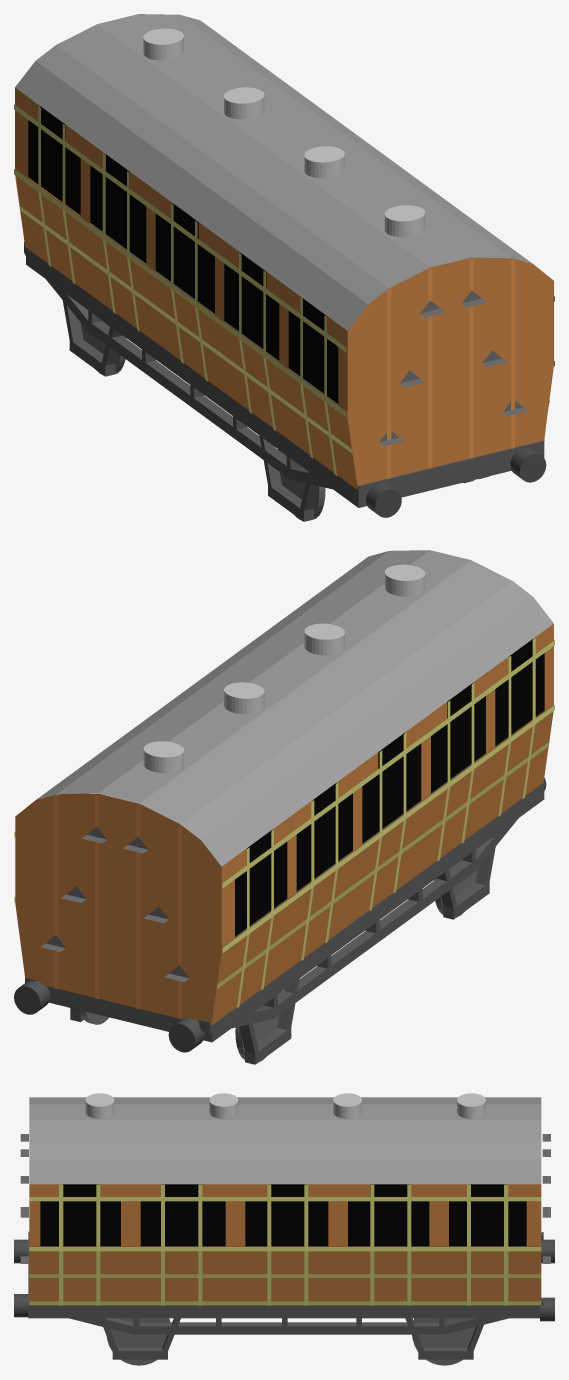
The model's file is lbscr-4wheel-second.dae.
The picture shows the model from 3 angles, top to bottom: view 1: azimuth 30°, elevation 25°; view 2: azimuth 150°, elevation 25°; view 3: azimuth 270°, elevation 25°; orthographic projection. The views are drawn at different scales.
Visible parts, largest first — view 1: Plane_083, Plane_084, Plane_152, Plane_142, Plane_001, Plane_002, Cube_008, Plane_041, Plane_149, Plane_150, Plane_148, Cylinder_016 (+18 smaller); view 2: Plane_083, Plane_085, Plane_152, Plane_142, Plane_001, Plane_041, Cube_008, Plane_002, Plane_150, Plane_149, Plane_148, Cylinder_009 (+16 smaller); view 3: Plane_001, Plane_010, Plane_086, Plane_083, Plane_002, Cube_035, Plane_041, Plane_017, Plane_016, Plane_018, Plane_019, Cylinder_006 (+33 smaller).
Part boxes in pixels (bbox=[...]): Plane_083: bbox=[15, 19, 450, 330]; Plane_084: bbox=[347, 257, 553, 487]; Plane_152: bbox=[15, 169, 357, 489]; Plane_142: bbox=[28, 106, 338, 403]; Plane_001: bbox=[118, 14, 532, 263]; Plane_002: bbox=[224, 321, 544, 507]; Cube_008: bbox=[88, 321, 290, 479]; Plane_041: bbox=[26, 226, 229, 413]; Plane_149: bbox=[14, 169, 346, 417]; Plane_150: bbox=[14, 104, 346, 352]; Plane_148: bbox=[19, 206, 352, 453]; Cylinder_016: bbox=[384, 205, 425, 237]; Plane_083: bbox=[119, 555, 553, 866]; Plane_085: bbox=[15, 793, 221, 1025]; Plane_152: bbox=[211, 704, 553, 1025]; Plane_142: bbox=[221, 639, 544, 936]; Plane_001: bbox=[36, 550, 450, 799]; Plane_041: bbox=[46, 845, 415, 1042]; Cube_008: bbox=[274, 860, 475, 1018]; Plane_002: bbox=[347, 761, 544, 892]; Plane_150: bbox=[222, 640, 554, 887]; Plane_149: bbox=[222, 705, 554, 952]; Plane_148: bbox=[216, 741, 549, 988]; Cylinder_009: bbox=[224, 682, 264, 714]; Plane_001: bbox=[29, 1112, 541, 1184]; Plane_010: bbox=[29, 1246, 541, 1301]; Plane_086: bbox=[40, 1184, 526, 1246]; Plane_083: bbox=[29, 1097, 541, 1112]; Plane_002: bbox=[28, 1231, 341, 1318]; Cube_035: bbox=[133, 1322, 444, 1334]; Plane_041: bbox=[245, 1246, 540, 1318]; Plane_017: bbox=[29, 1247, 541, 1251]; Plane_016: bbox=[29, 1197, 541, 1201]; Plane_018: bbox=[29, 1301, 541, 1305]; Plane_019: bbox=[29, 1274, 541, 1277]; Cylinder_006: bbox=[412, 1318, 475, 1365].
Size of the model in its own units: 2.02 by 5.9 by 2.82.
